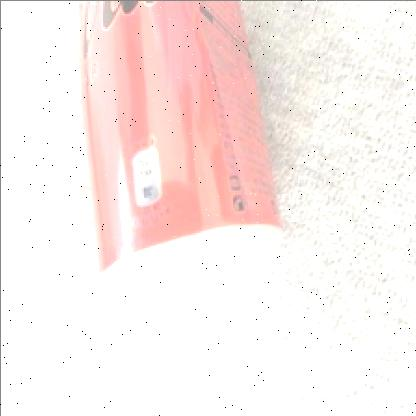Can: (80, 0, 278, 304), (415, 415, 416, 416)
